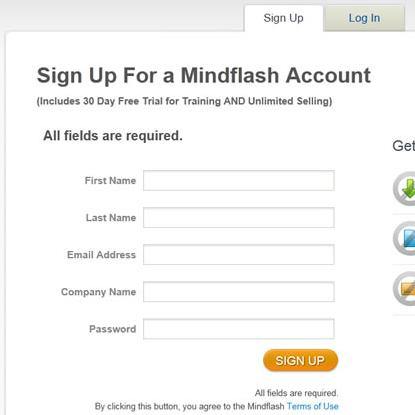button: (264, 348, 338, 371)
field: (140, 169, 335, 192), (141, 206, 336, 229), (141, 317, 334, 340), (141, 281, 334, 303), (141, 243, 336, 264)
field_with_label: (61, 279, 335, 305), (64, 241, 337, 267), (85, 168, 336, 194), (86, 205, 337, 231), (84, 316, 335, 342)
